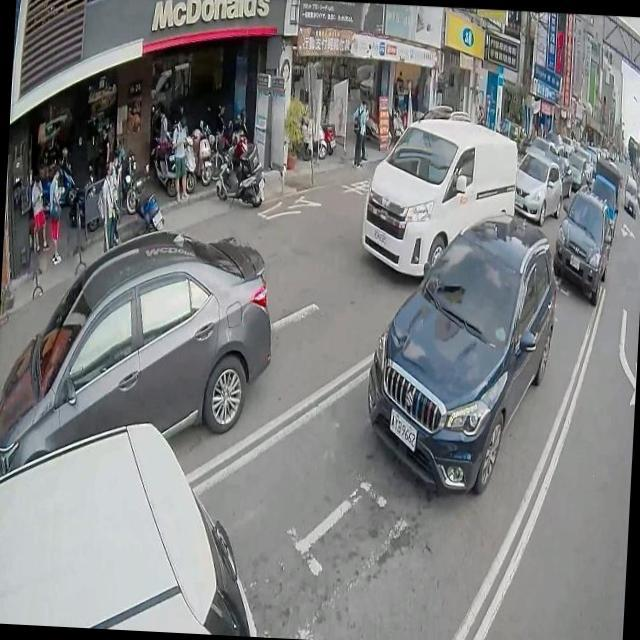person: (42, 163, 66, 264), (96, 159, 122, 249), (26, 166, 49, 258), (168, 115, 190, 202), (350, 100, 368, 168), (154, 106, 172, 141)
